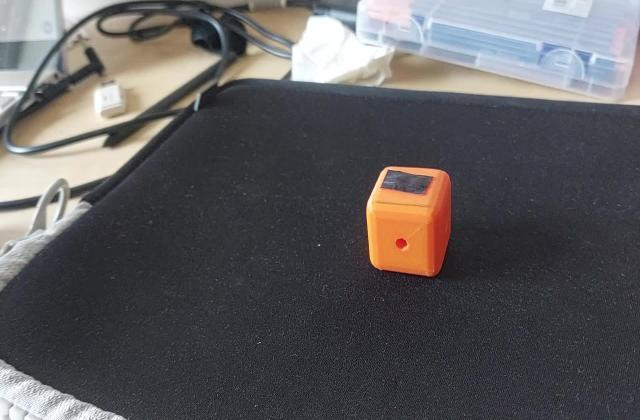black: (383, 170, 438, 200)
cube: (364, 162, 456, 280)
